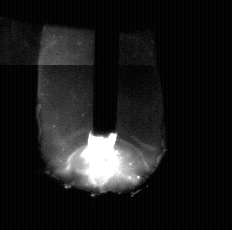arame: (93, 0, 117, 138)
poca: (37, 0, 164, 230)
